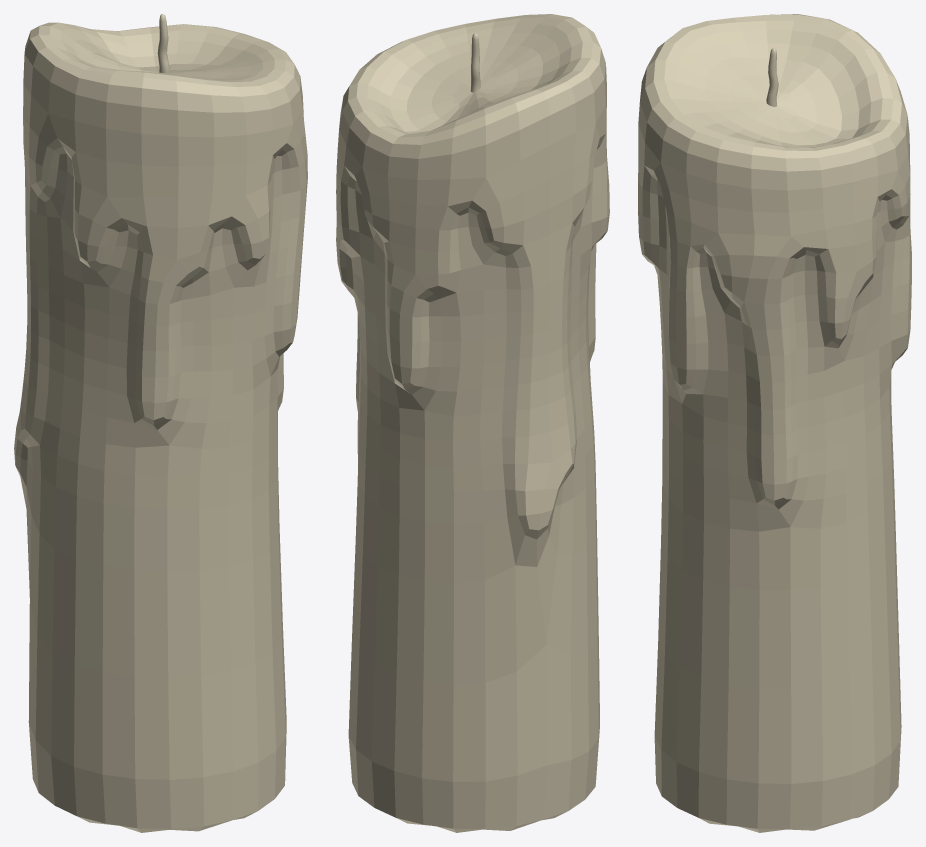
The model's file is CandleSkinnyFrumpyTall.fbx.
3 views of the same model, side by side, from view 1: azimuth 30°, elevation 25°; view 2: azimuth 150°, elevation 25°; view 3: azimuth 270°, elevation 25° (orthographic). The views are drawn at different scales.
Parts seen in each view (by area): view 1: LargeSkinnyCanle; view 2: LargeSkinnyCanle; view 3: LargeSkinnyCanle.
Boxes of the visible parts, left/top/right/bottom form: LargeSkinnyCanle: left=14, top=14, right=307, bottom=832; LargeSkinnyCanle: left=336, top=14, right=609, bottom=832; LargeSkinnyCanle: left=638, top=14, right=911, bottom=832.
Bounding box in the file's own units: 9.74 × 29.38 × 9.76.
